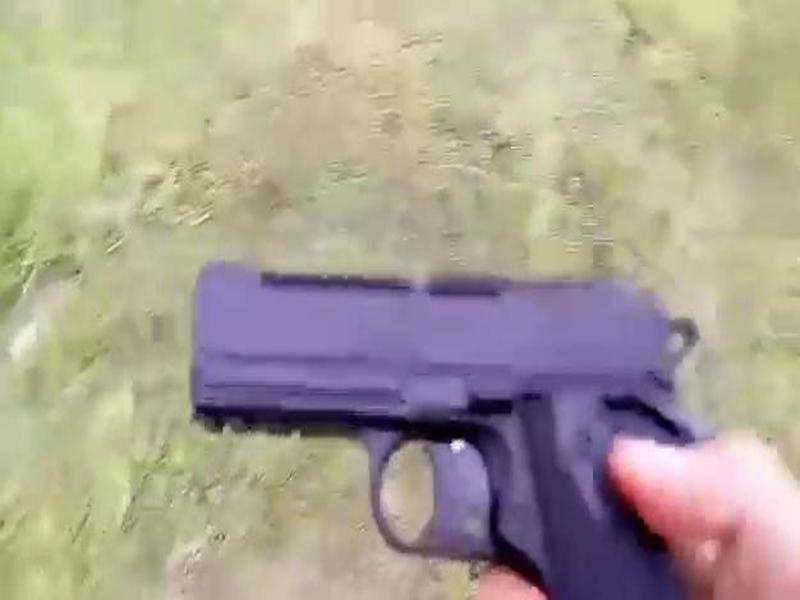Pistola: (167, 243, 735, 600)
